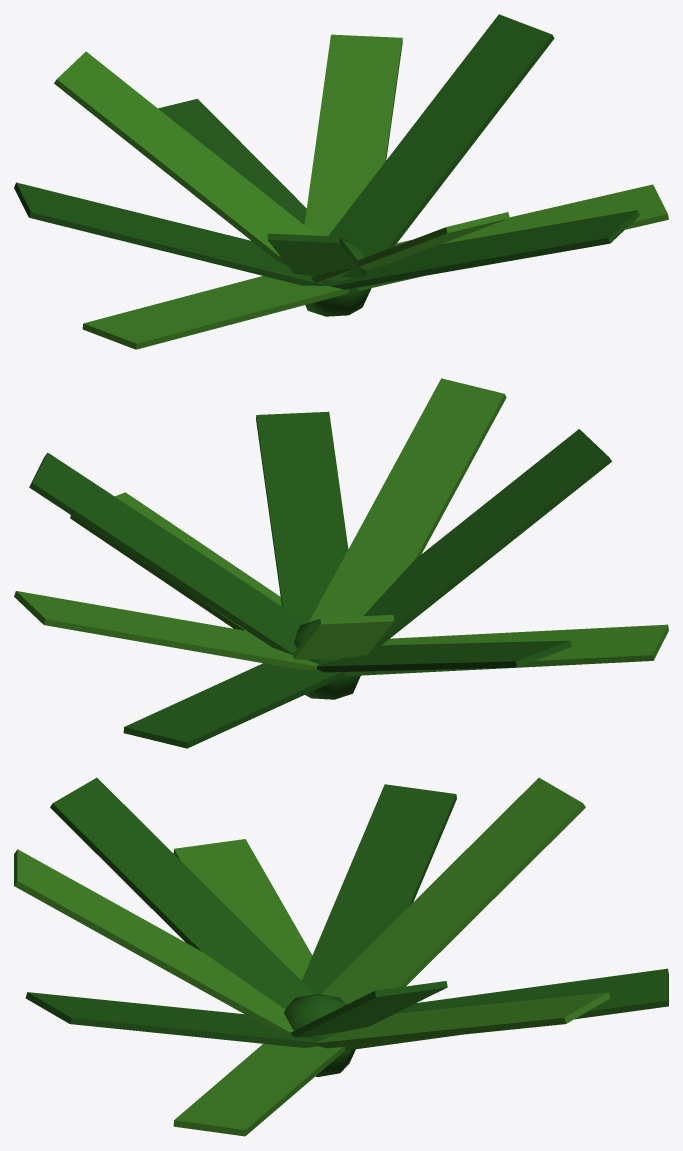
The model's file is jg_giant_fern.glb.
The picture shows the model from 3 angles, top to bottom: view 1: azimuth 30°, elevation 25°; view 2: azimuth 150°, elevation 25°; view 3: azimuth 270°, elevation 25°; orthographic projection. The views are drawn at different scales.
Parts seen in each view (by area): view 1: jg_giant_fern; view 2: jg_giant_fern; view 3: jg_giant_fern.
Part boxes in pixels (left/top/right/bottom): jg_giant_fern: left=14, top=14, right=668, bottom=349; jg_giant_fern: left=14, top=378, right=668, bottom=748; jg_giant_fern: left=14, top=777, right=668, bottom=1136.
Size of the model in its own units: 3.12 by 1.05 by 2.96.
